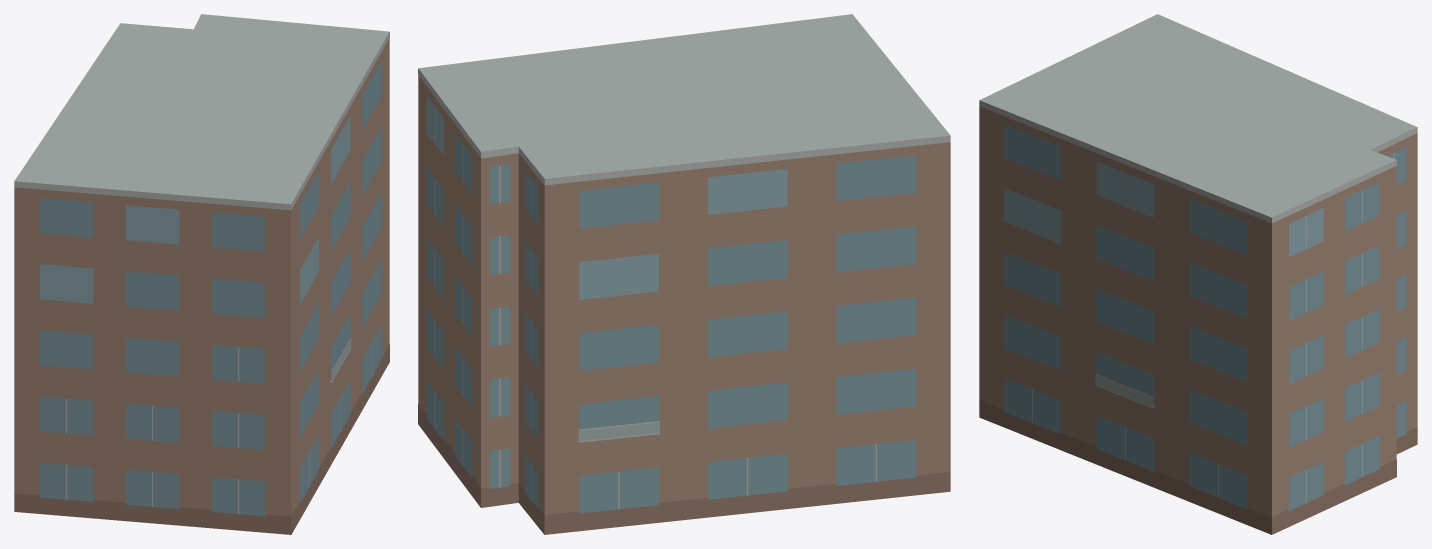
Rendered from survey-upis-32841565.glb.
The picture shows the model from 3 angles, left to right: view 1: azimuth 30°, elevation 25°; view 2: azimuth 150°, elevation 25°; view 3: azimuth 270°, elevation 25°; orthographic projection. The views are drawn at different scales.
Visible parts, largest first — view 1: survey-upis-32841565.tmp; view 2: survey-upis-32841565.tmp; view 3: survey-upis-32841565.tmp.
Part boxes in pixels (x1=…): survey-upis-32841565.tmp: x1=14, y1=14, x2=389, y2=534; survey-upis-32841565.tmp: x1=418, y1=14, x2=950, y2=534; survey-upis-32841565.tmp: x1=979, y1=14, x2=1417, y2=534.
Size of the model in its own units: 18.32 by 13.3 by 16.66.
